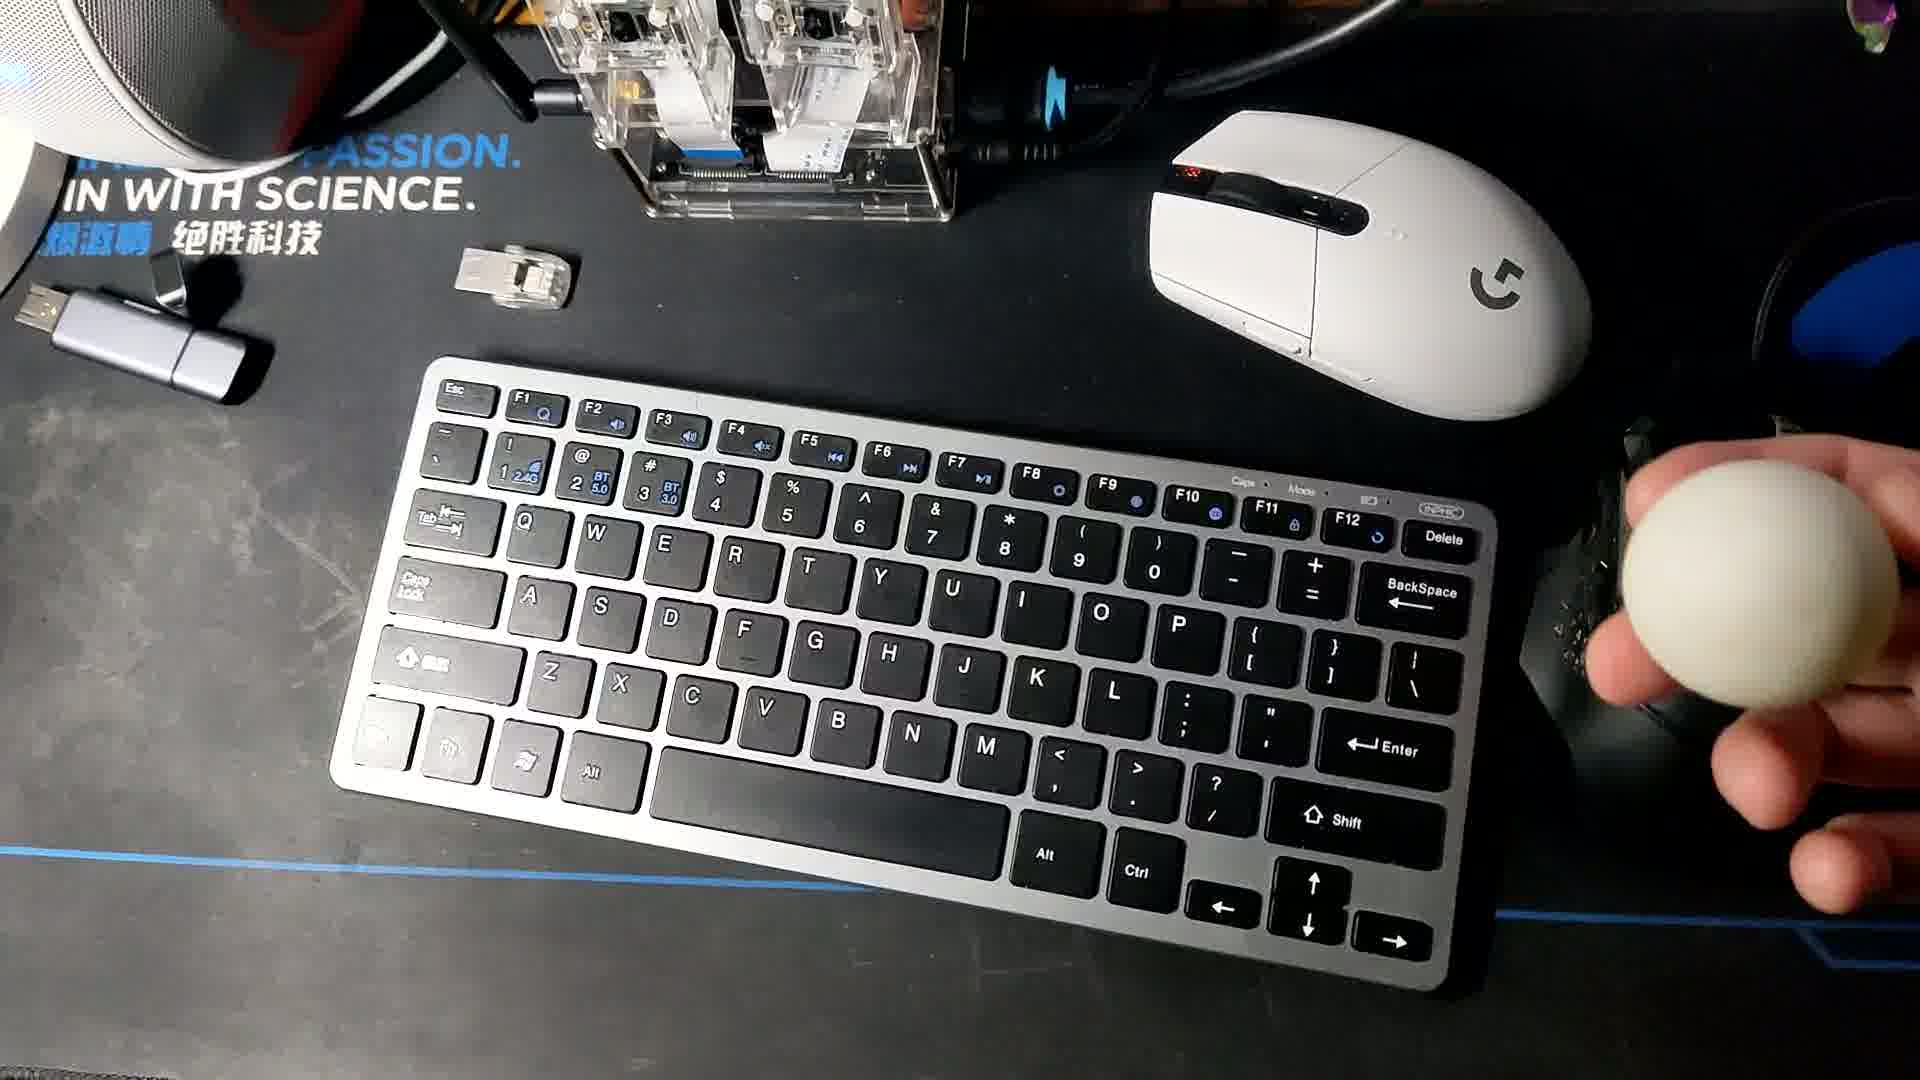Ball: (1617, 462, 1894, 711)
